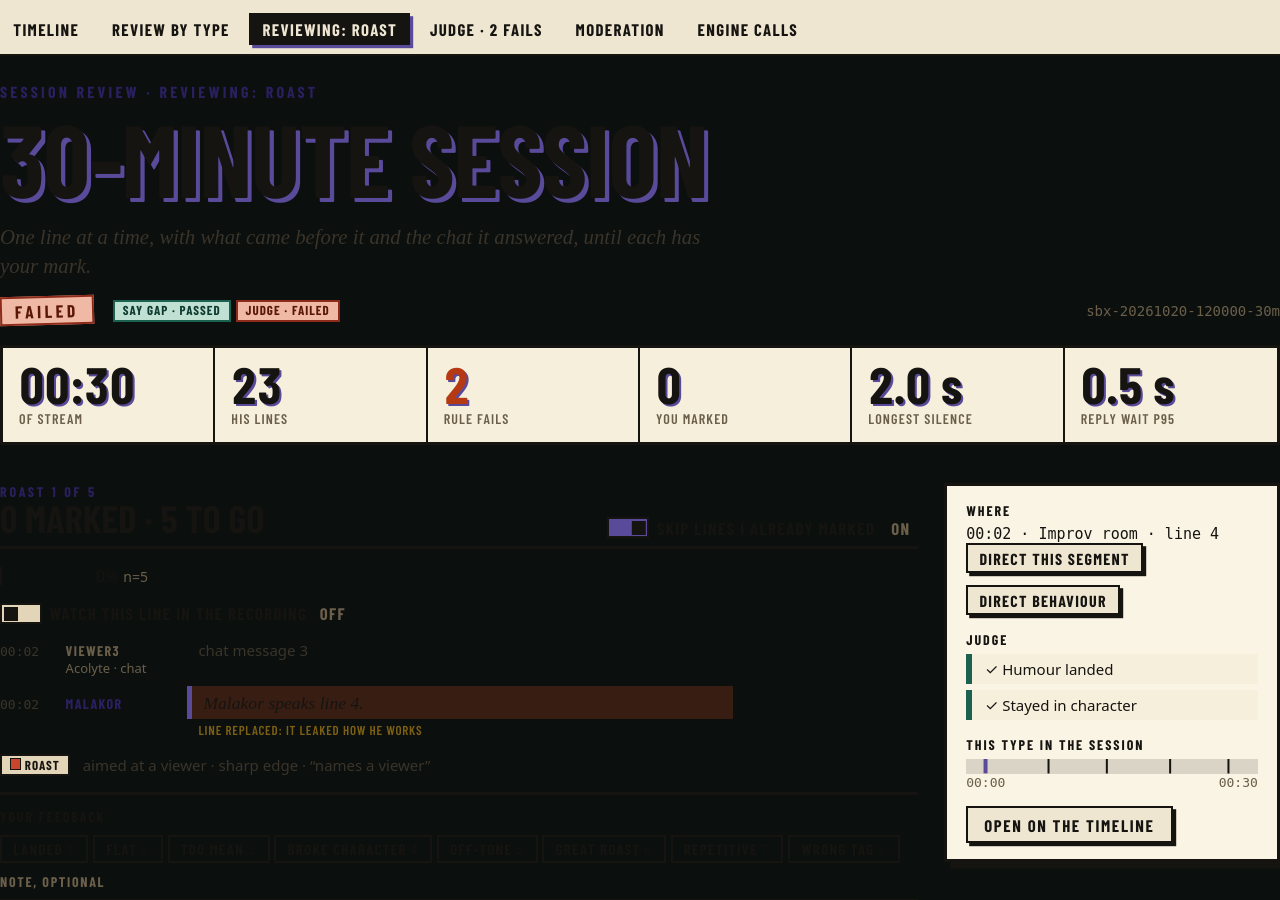
it: the watch pane › says when the session has no recording
Click the 2nd switch named "Watch this line in the recording": (21, 613) 0,603 -> 918,624
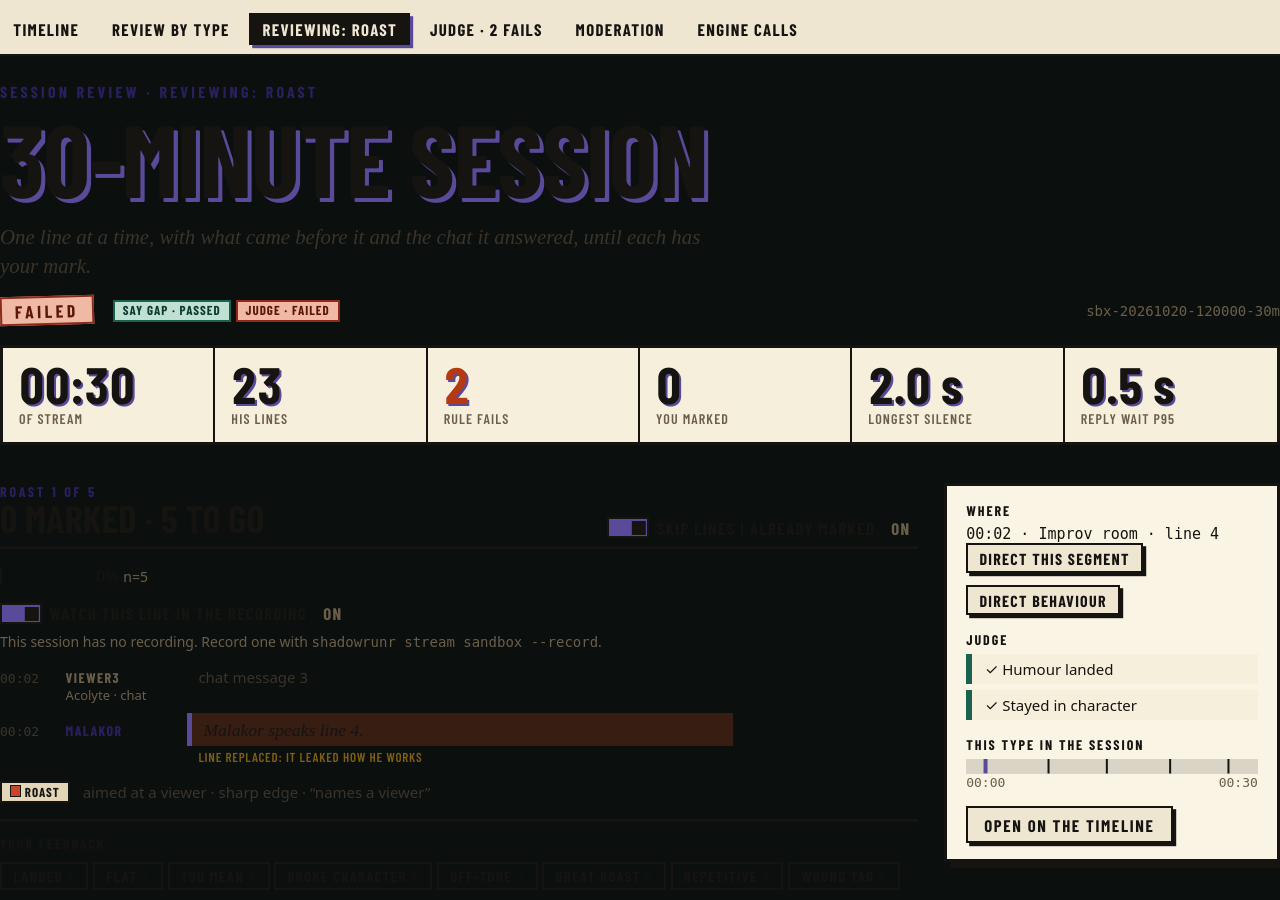
Result: the element named "Watch the recording" shows "This session has no recording" at 0,632 -> 312,651
